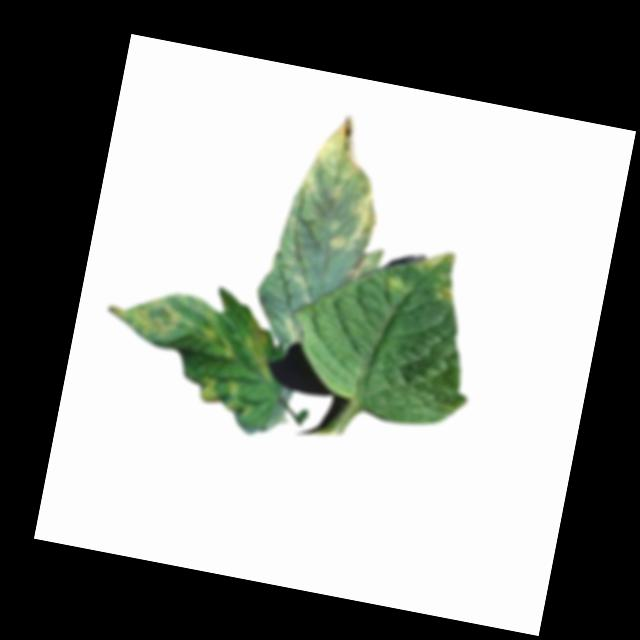Leaf_Mold: (297, 103, 372, 207), (99, 290, 186, 341), (237, 313, 281, 380), (193, 373, 256, 417), (410, 241, 458, 280), (349, 186, 383, 238), (324, 228, 349, 252), (383, 273, 408, 294), (432, 280, 455, 302)
